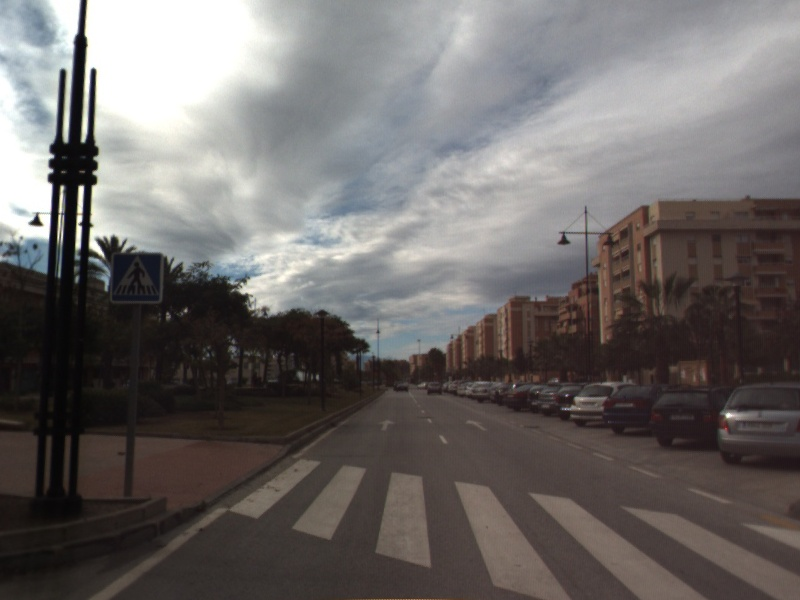STRAIGHT: (464, 418, 489, 432), (376, 418, 397, 432)
